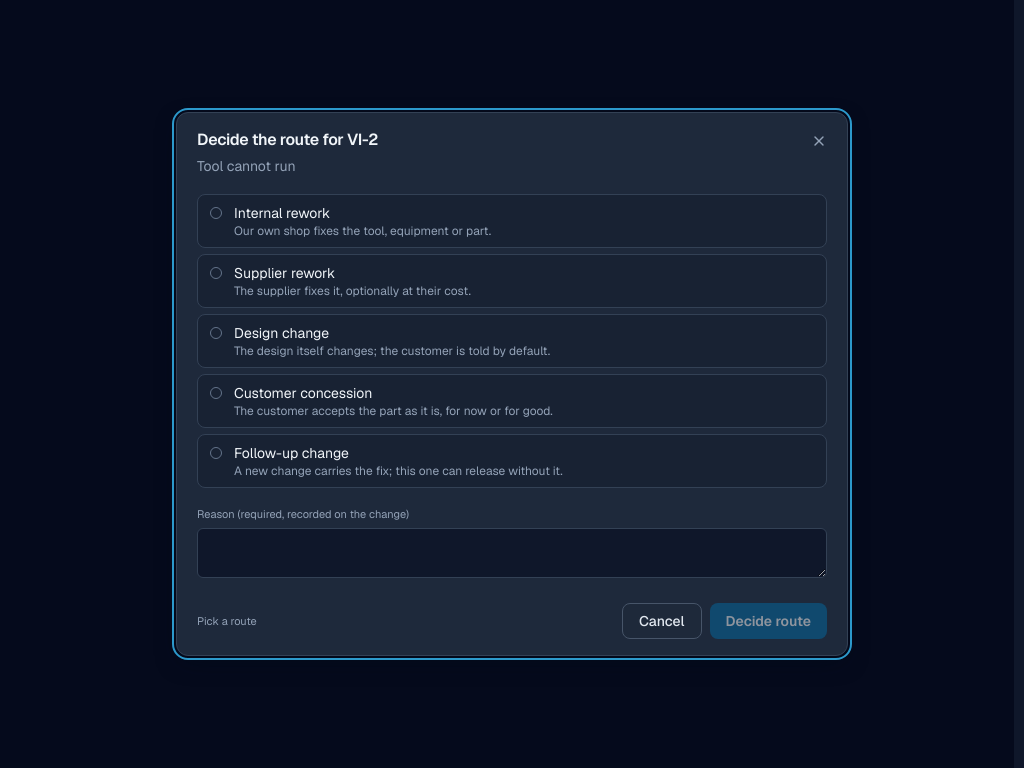
Test: route dialog › fix routes warn about the loop back and need a fix action
The width and height of the screenshot is (1024, 768).
Later steps or results of the test are not shown.
Step 1. Click the radio button with test id "route-option-internal_rework" → point(282, 213), box [197, 194, 827, 248]
(page scrolled)
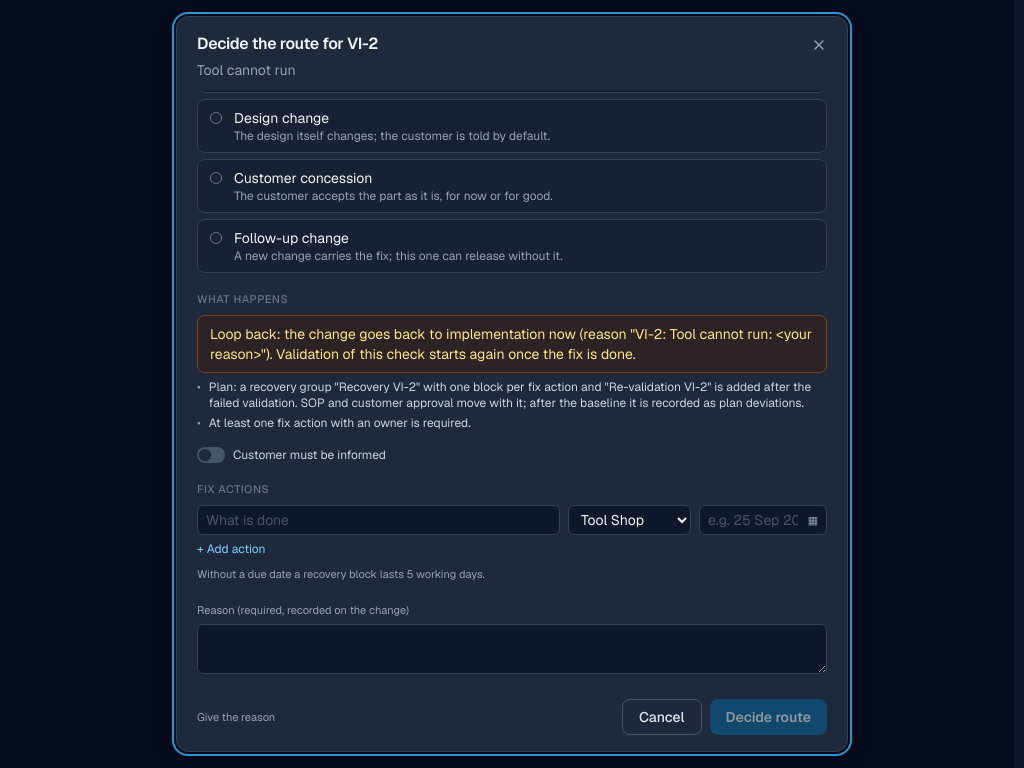
Expected: the message with test id "route-loopback" shows "goes back to implementation", [210, 325, 812, 363]
Step 2. Type "Slide worn" into the text box with test id "route-reason" → point(512, 649), box [197, 624, 827, 674]
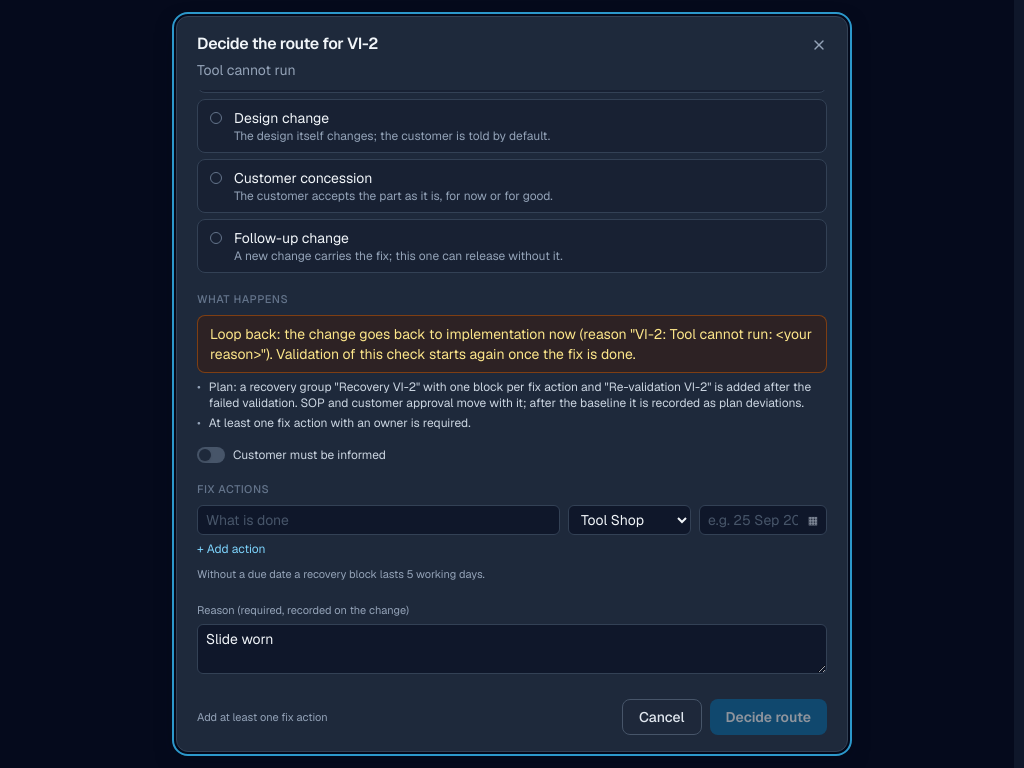
Expected: the button with test id "route-submit" is disabled, [710, 699, 827, 735]
Expected: the text with test id "route-missing" reads "Add at least one fix action", [197, 710, 328, 724]
